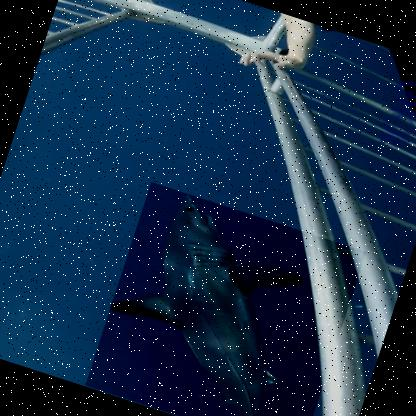mako-shark: (84, 182, 368, 415)
